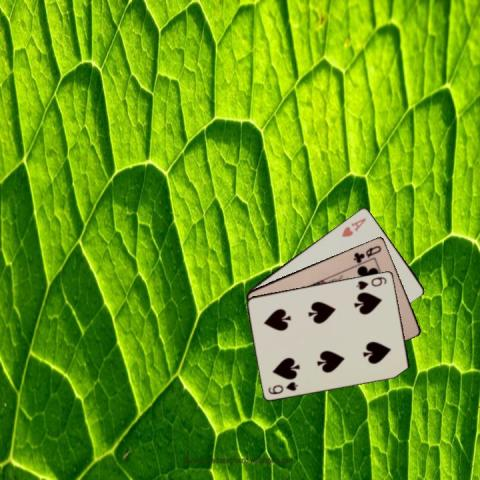6s: (353, 273, 388, 291), (266, 379, 300, 395)
Ah: (339, 215, 367, 238)
Qc: (350, 242, 382, 264)
